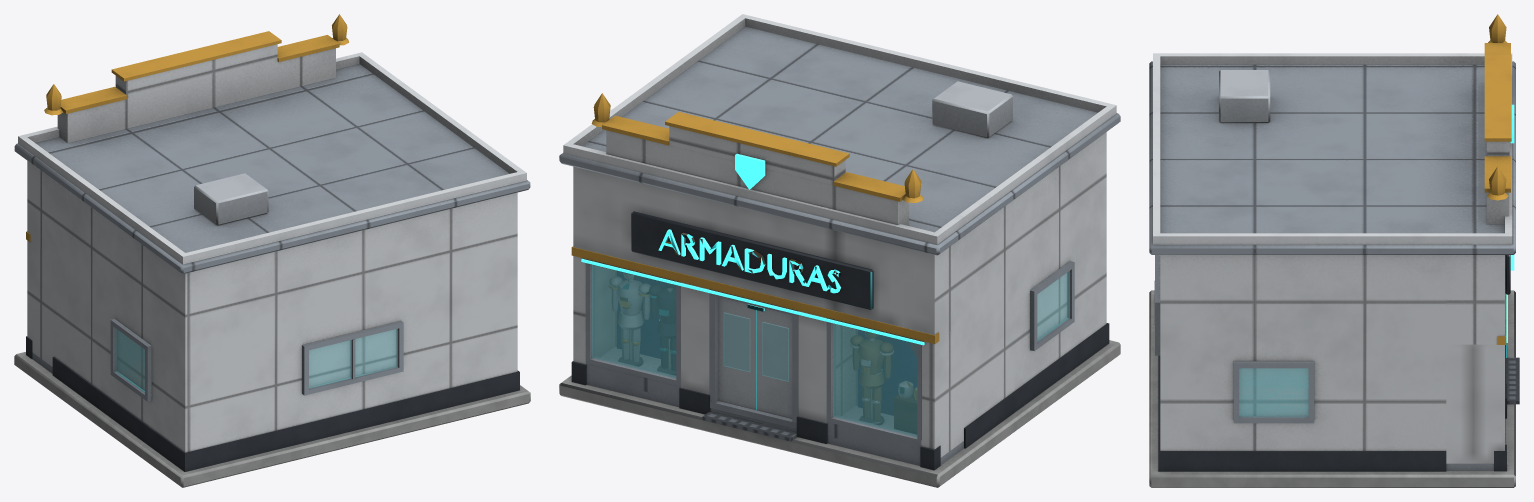
File: tienda_armaduras.fbx
3 views of the same model, side by side, from view 1: azimuth 30°, elevation 25°; view 2: azimuth 150°, elevation 25°; view 3: azimuth 270°, elevation 25° (orthographic). The views are drawn at different scales.
Visible parts, largest first — view 1: tienda_armaduras, tienda_armaduras_cristal; view 2: tienda_armaduras, tienda_armaduras_cristal, tienda_armaduras_neon, tienda_armaduras_puerta_izq, tienda_armaduras_puerta_der; view 3: tienda_armaduras, tienda_armaduras_cristal.
Boxes of the visible parts, left/top/right/bottom form: tienda_armaduras: left=14, top=14, right=530, bottom=487; tienda_armaduras_cristal: left=115, top=328, right=397, bottom=392; tienda_armaduras: left=559, top=14, right=1120, bottom=487; tienda_armaduras_cristal: left=592, top=265, right=1069, bottom=437; tienda_armaduras_neon: left=581, top=153, right=924, bottom=345; tienda_armaduras_puerta_izq: left=718, top=297, right=756, bottom=409; tienda_armaduras_puerta_der: left=757, top=308, right=792, bottom=418; tienda_armaduras: left=1149, top=14, right=1519, bottom=487; tienda_armaduras_cristal: left=1239, top=368, right=1308, bottom=417.
Size of the model in its own units: 12 by 9.2 by 10.1.
Materials: 3 (3 with a texture image).
